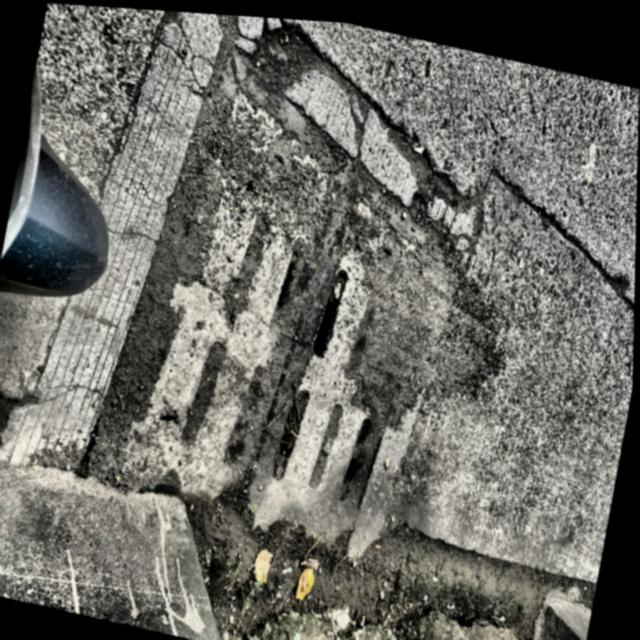clogged_drains: (89, 91, 369, 522)
